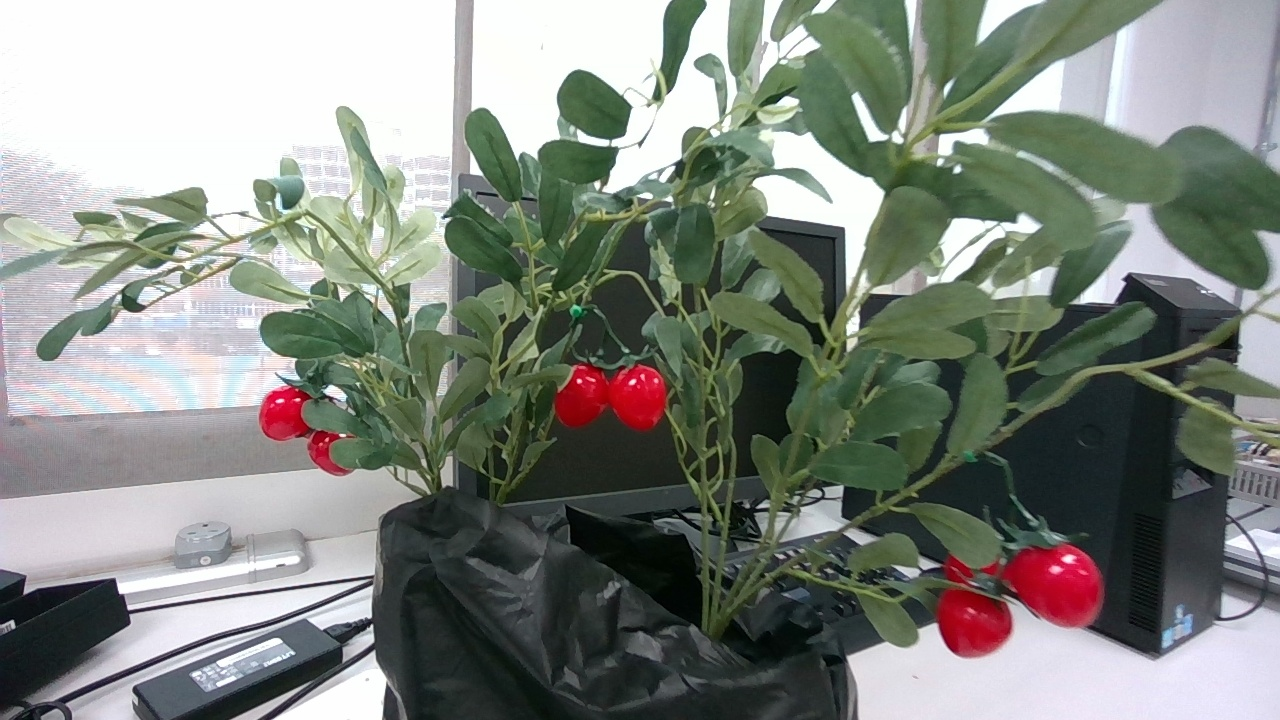peduncle: (983, 452, 1015, 494), (590, 304, 609, 325)
strawberry: (1004, 543, 1106, 628), (938, 589, 1014, 658), (609, 363, 668, 431), (554, 363, 609, 428), (258, 385, 310, 441), (306, 430, 352, 476), (944, 555, 976, 585), (984, 561, 1001, 576)
